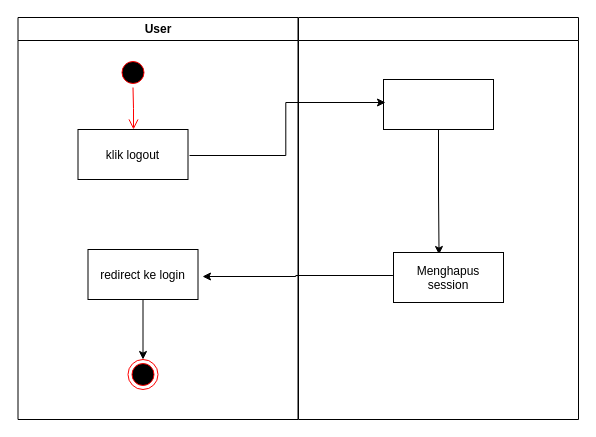
Image size: 596x437. Some labels were removed from this diagram. The box of each missing label's shape, as (x1, y1, x2, y2) in pixels:
memproses logout: (382, 78, 494, 130)
Server: (298, 16, 578, 420)
